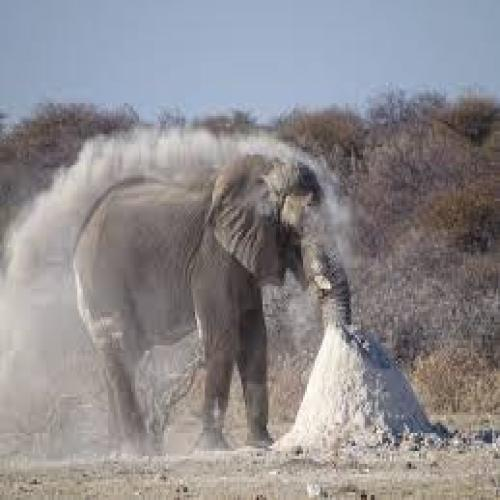asian_elephant-endangered: (73, 155, 352, 454)
